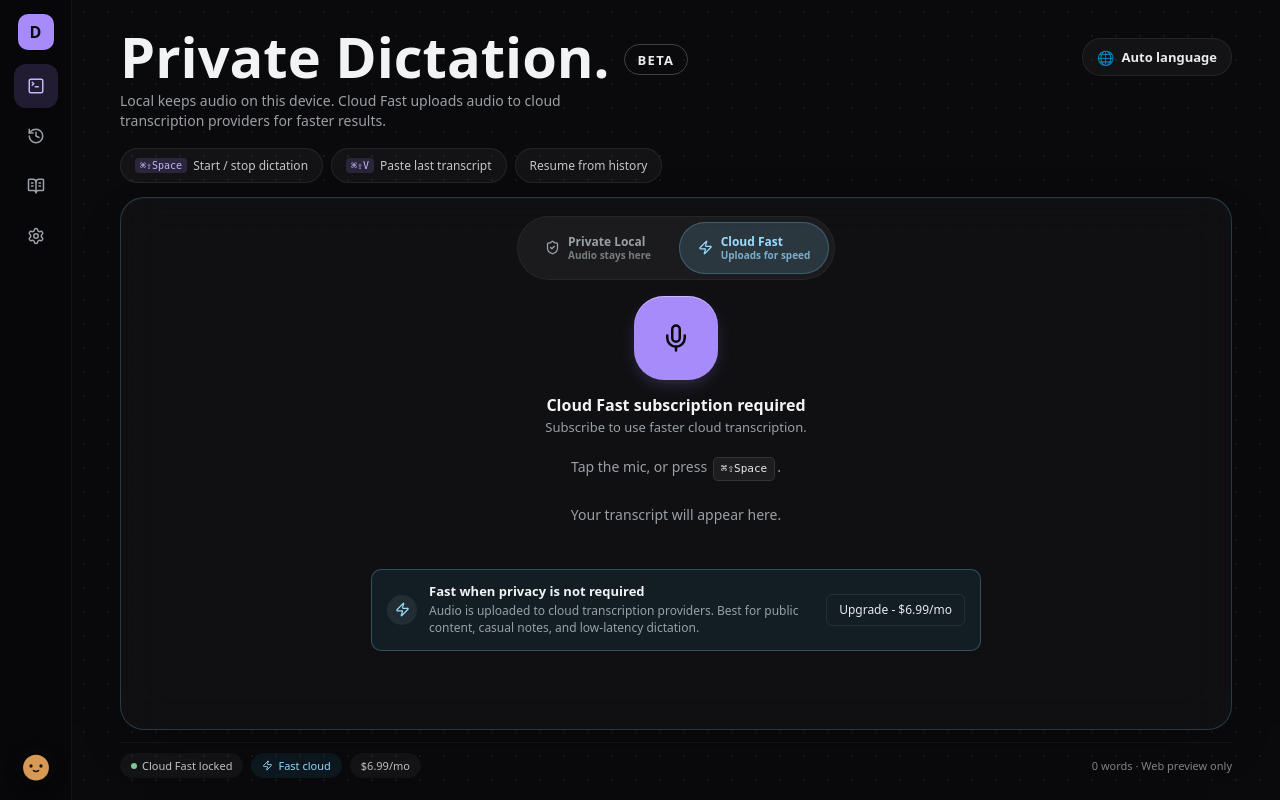
App startup recovery › blocks Cloud Fast dictation when the user has no subscription
Expected: the text "Cloud Fast subscription required" is shown, x1=546 y1=396 x2=806 y2=415
Click the button named "Start dictation" at [676, 338], box x1=634 y1=296 x2=718 y2=380
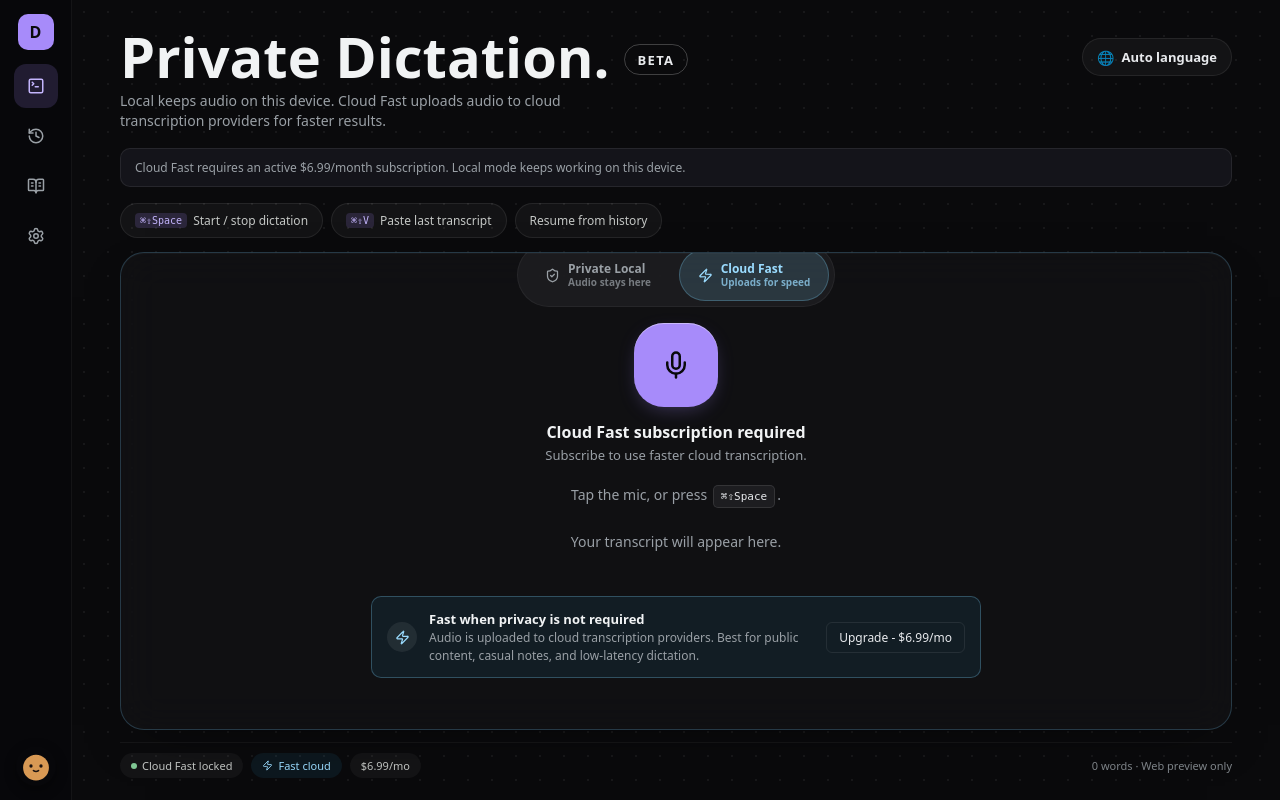
Result: the text "Cloud Fast requires an active $6.99/month subscription. Local mode keeps working on this device." is shown at x1=135 y1=159 x2=685 y2=176
